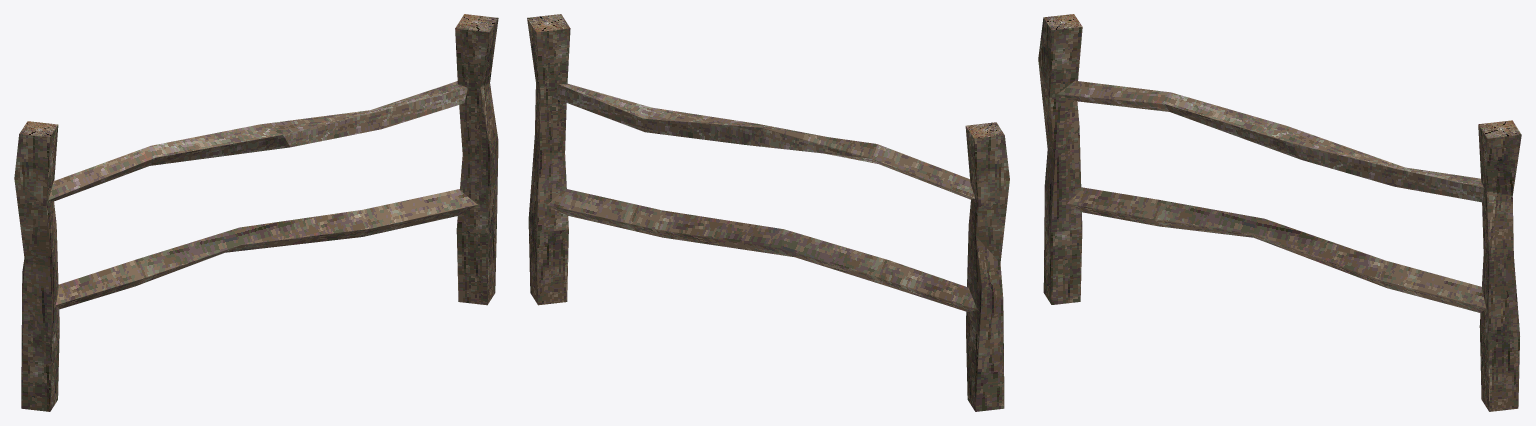
The model's file is wooden_fence_closed.glb.
The picture shows the model from 3 angles, left to right: view 1: azimuth 30°, elevation 25°; view 2: azimuth 150°, elevation 25°; view 3: azimuth 330°, elevation 25°; orthographic projection.
Parts seen in each view (by area): view 1: wooden_fence_closed; view 2: wooden_fence_closed; view 3: wooden_fence_closed.
Boxes of the visible parts, box(x1,y1,x2,y2) form: wooden_fence_closed: box(14, 14, 498, 411); wooden_fence_closed: box(527, 14, 1009, 411); wooden_fence_closed: box(1038, 14, 1521, 411).
Bounding box in the file's own units: 2.21 × 1.2 × 0.1991.
Materials: 1 (1 with a texture image).
